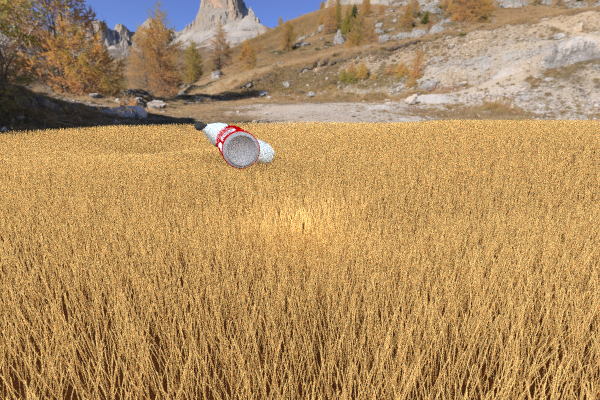Plastic Bottle: (194, 121, 274, 164), (513, 120, 581, 148), (216, 125, 260, 168)
